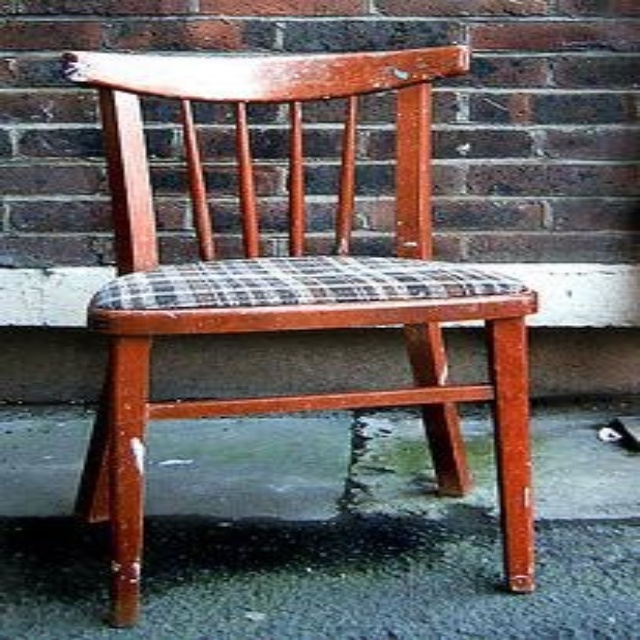obstacle: (65, 45, 534, 625)
